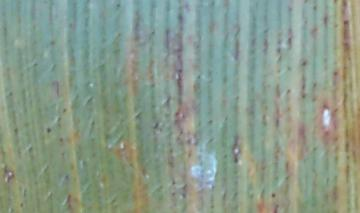tarspot: (271, 202, 280, 213), (44, 126, 53, 135), (268, 191, 276, 199), (299, 59, 306, 68), (26, 145, 33, 154), (61, 106, 67, 114), (57, 136, 65, 142)
